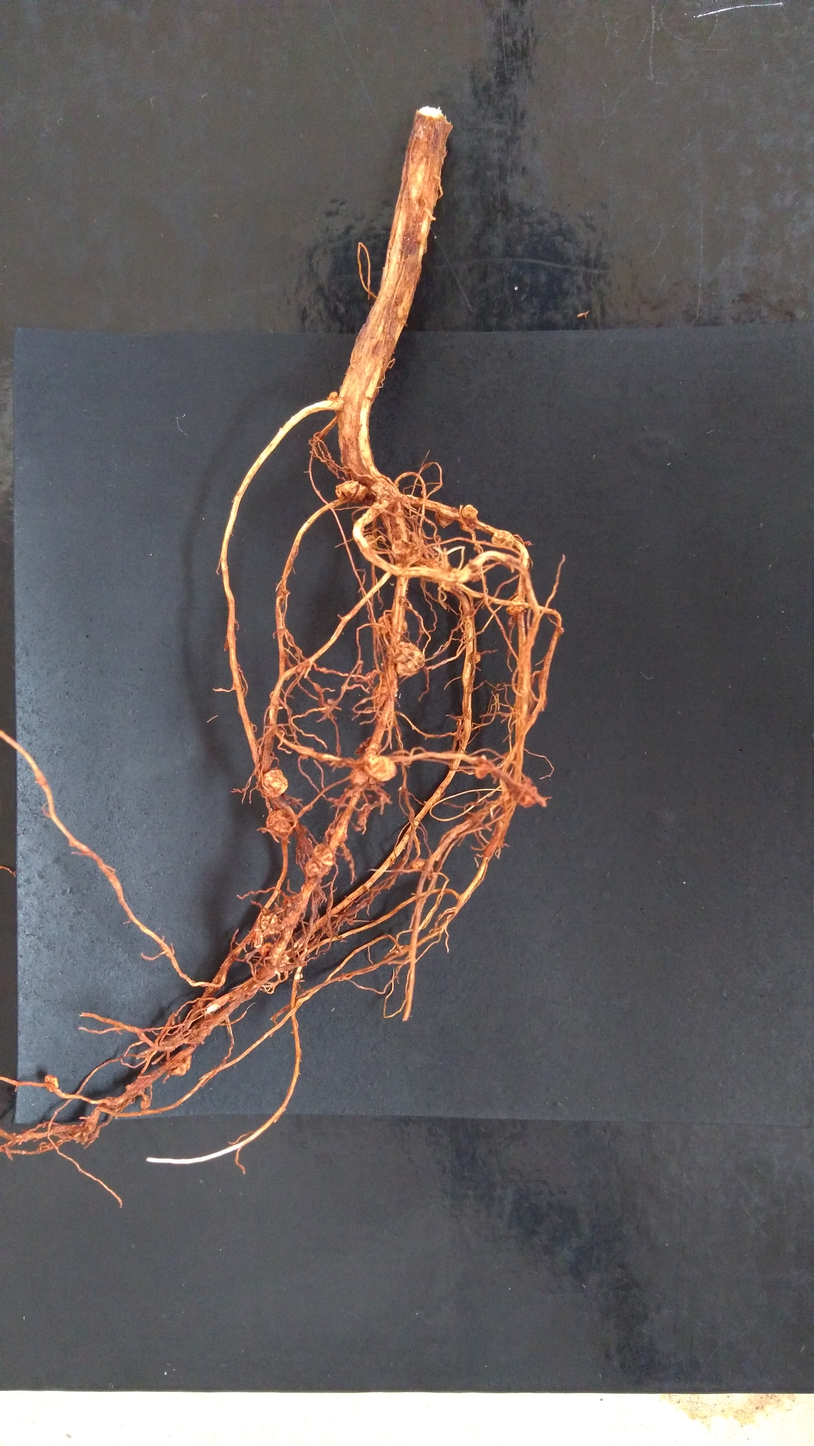nodule: (393, 641, 425, 677), (364, 755, 397, 782), (335, 480, 367, 504), (391, 539, 421, 564), (265, 810, 295, 835), (377, 613, 407, 637), (516, 783, 539, 809), (370, 480, 399, 500), (415, 558, 438, 583), (304, 856, 331, 877), (311, 843, 336, 865), (169, 1051, 190, 1076), (371, 681, 390, 708), (260, 912, 281, 935), (407, 531, 427, 555), (491, 530, 515, 548), (505, 595, 527, 614), (353, 737, 372, 755), (434, 512, 454, 528), (475, 755, 488, 779), (350, 767, 367, 784), (44, 1074, 59, 1093), (125, 1082, 145, 1096), (462, 504, 478, 520), (364, 534, 378, 551), (259, 942, 273, 956), (411, 858, 427, 870), (253, 928, 263, 947), (357, 811, 369, 826), (366, 671, 375, 686), (469, 652, 481, 663), (279, 954, 291, 964), (140, 1100, 151, 1109), (395, 507, 404, 517), (340, 832, 349, 842), (327, 392, 338, 400), (369, 776, 376, 785), (296, 665, 303, 672), (474, 545, 480, 553), (329, 827, 335, 835), (559, 626, 564, 635), (261, 827, 267, 834), (326, 698, 333, 704), (524, 541, 532, 546)
